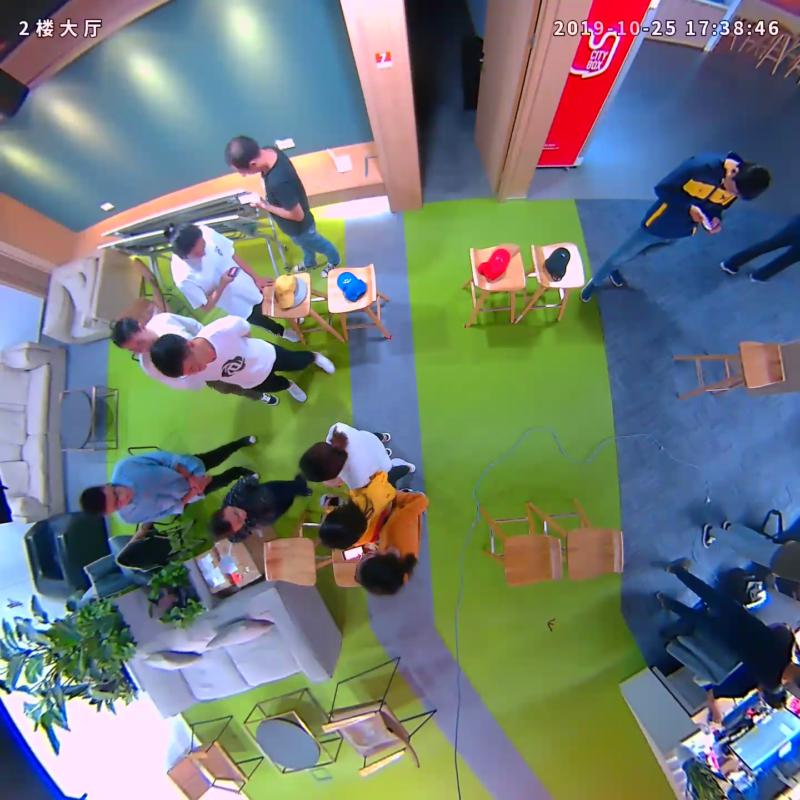head: (149, 332, 207, 377), (355, 549, 401, 595), (319, 504, 366, 549), (722, 160, 769, 201), (298, 440, 343, 482), (80, 483, 133, 515), (224, 135, 264, 175), (168, 223, 207, 262), (110, 317, 150, 353), (209, 505, 247, 539)
